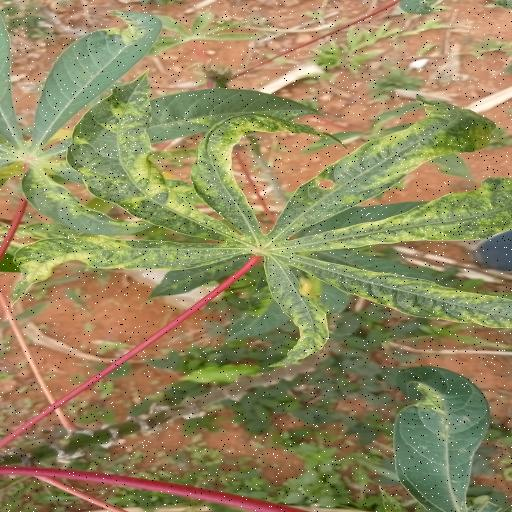Cassava_Mosaic: (0, 82, 512, 368)
